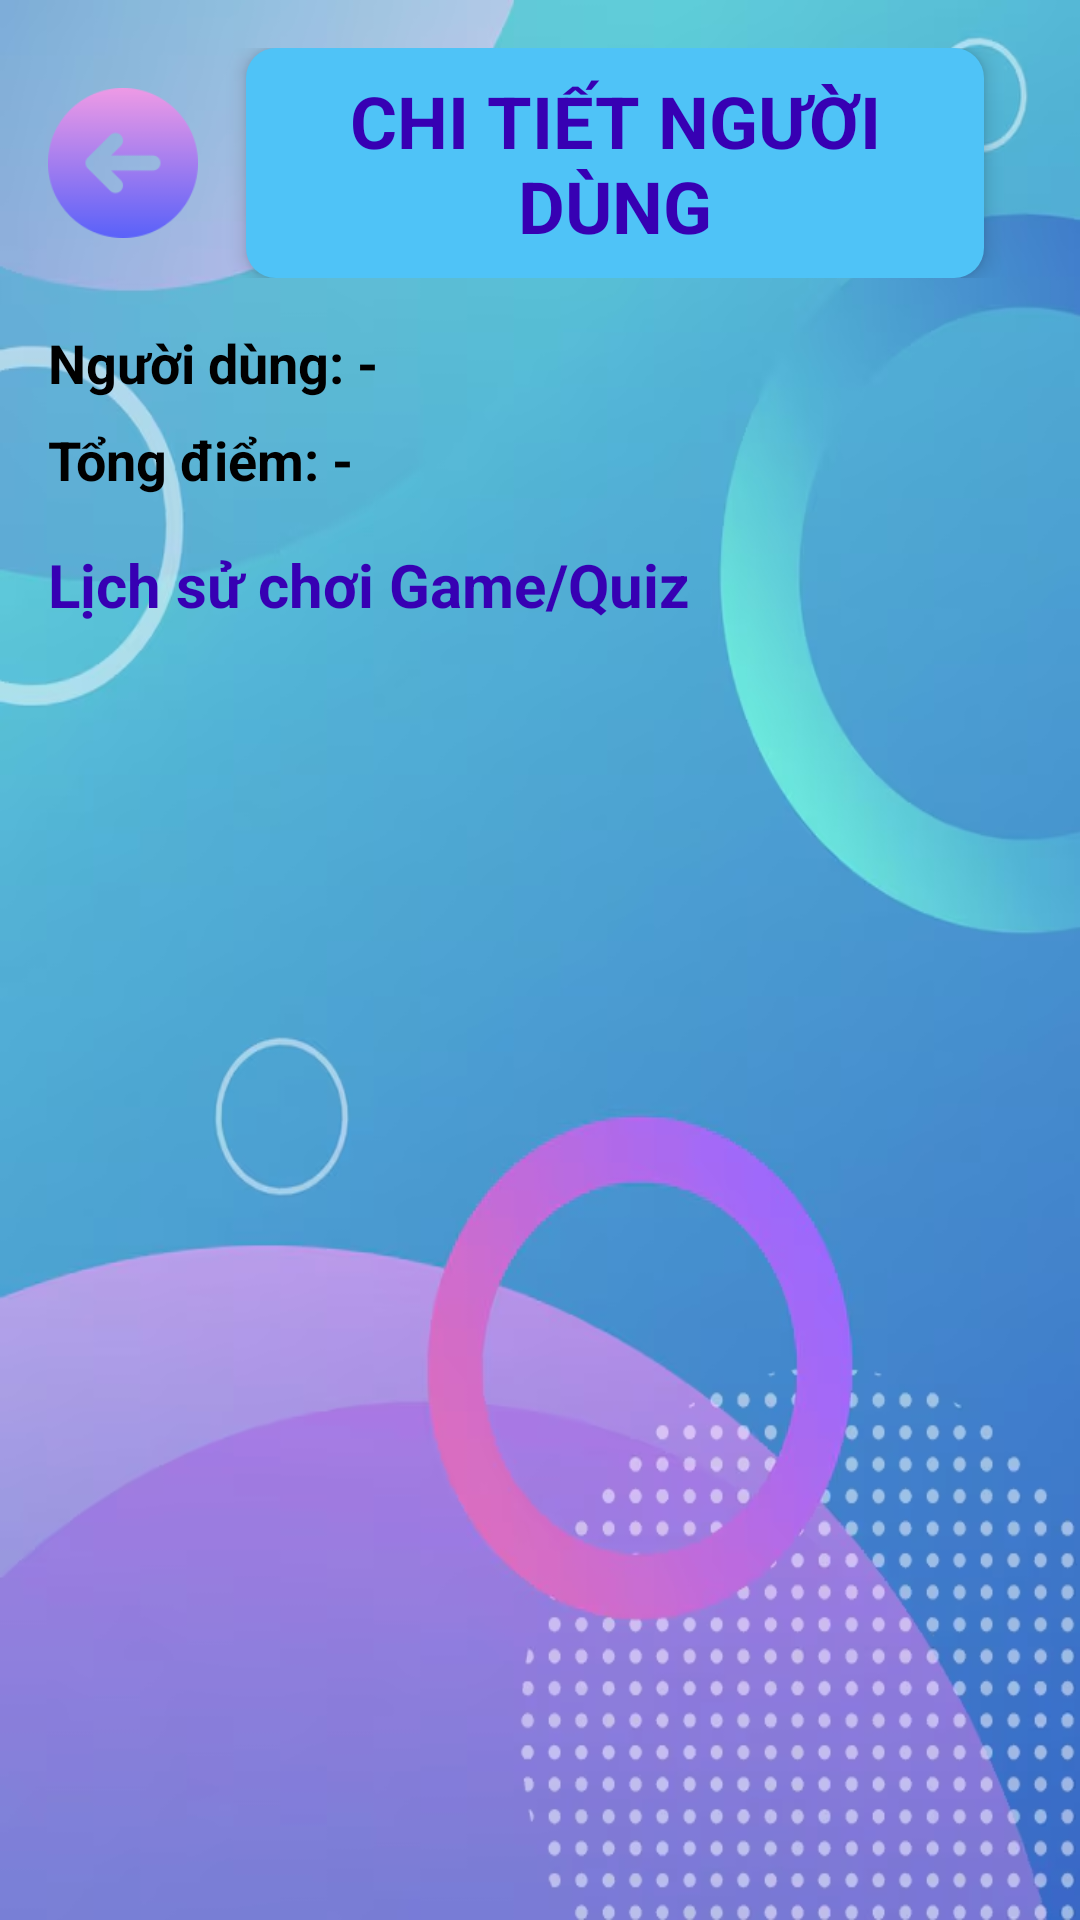

Screen size 1080×1920. Icon name, then its center in pixels as [x,y]:
Quay lại: [123,163]
